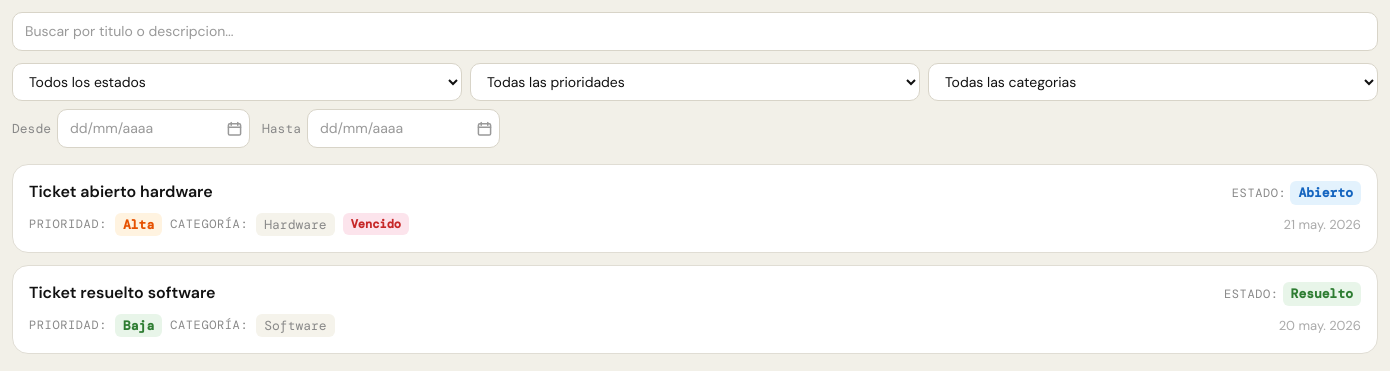
Test: TicketList › filtra por estado
This screenshot has width=1390, height=371.
Select "Abierto" in the 1st dropdown at (237, 82), box [12,63,462,101]
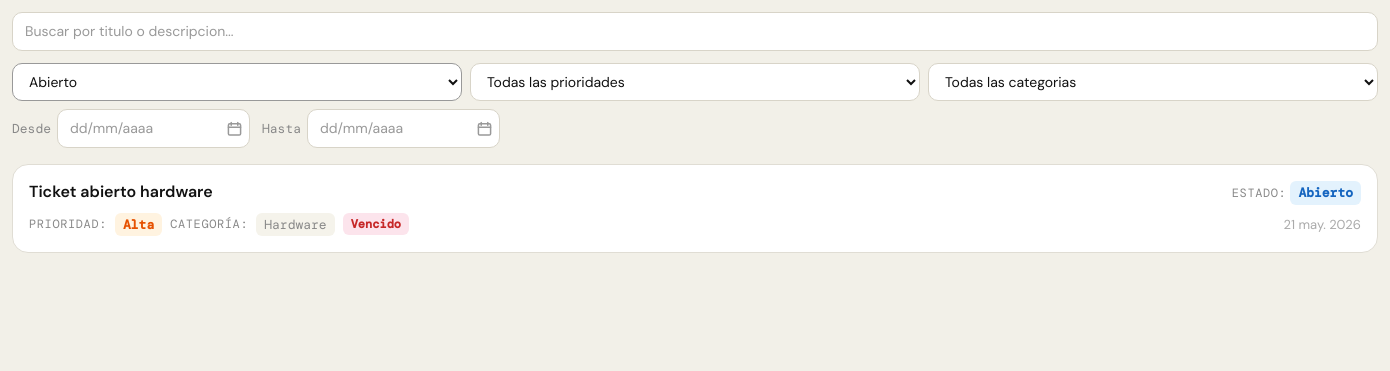
Expected: the text "Ticket abierto hardware" is shown, [29,181,213,202]
Expected: the button "Ticket resuelto software" is gone
